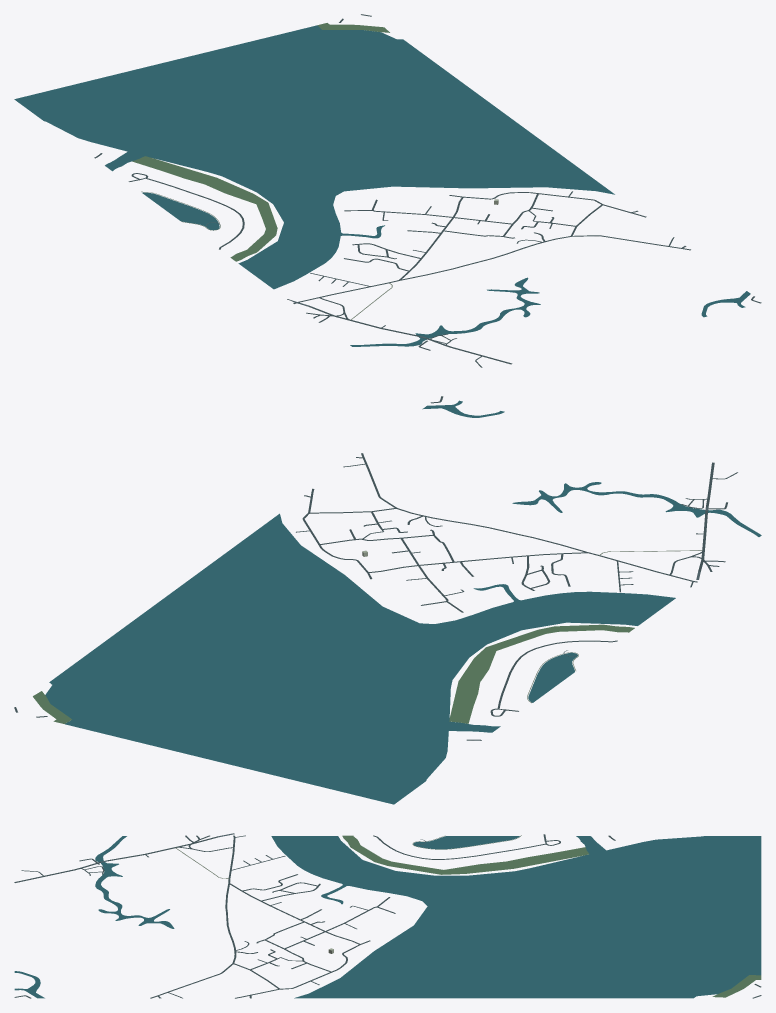
3 renders of one model, top to bottom at view 1: azimuth 30°, elevation 25°; view 2: azimuth 150°, elevation 25°; view 3: azimuth 270°, elevation 25°, orthographic. The views are drawn at different scales.
Parts seen in each view (by area): view 1: water, street, green; view 2: water, street, green; view 3: water, street, green.
Boxes of the visible parts, box(x1,y1,x2,y2) form: water: box(14, 25, 750, 346); street: box(94, 14, 761, 367); green: box(132, 23, 389, 261); water: box(45, 400, 761, 804); street: box(14, 396, 737, 740); green: box(33, 624, 634, 723); water: box(14, 836, 761, 998); street: box(14, 834, 761, 998); green: box(342, 835, 761, 997).
Bounding box in the file's own units: 1036 × 10.7 × 2003.
